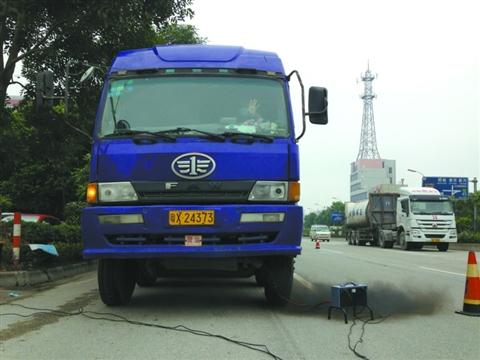smoke: (287, 281, 447, 321)
